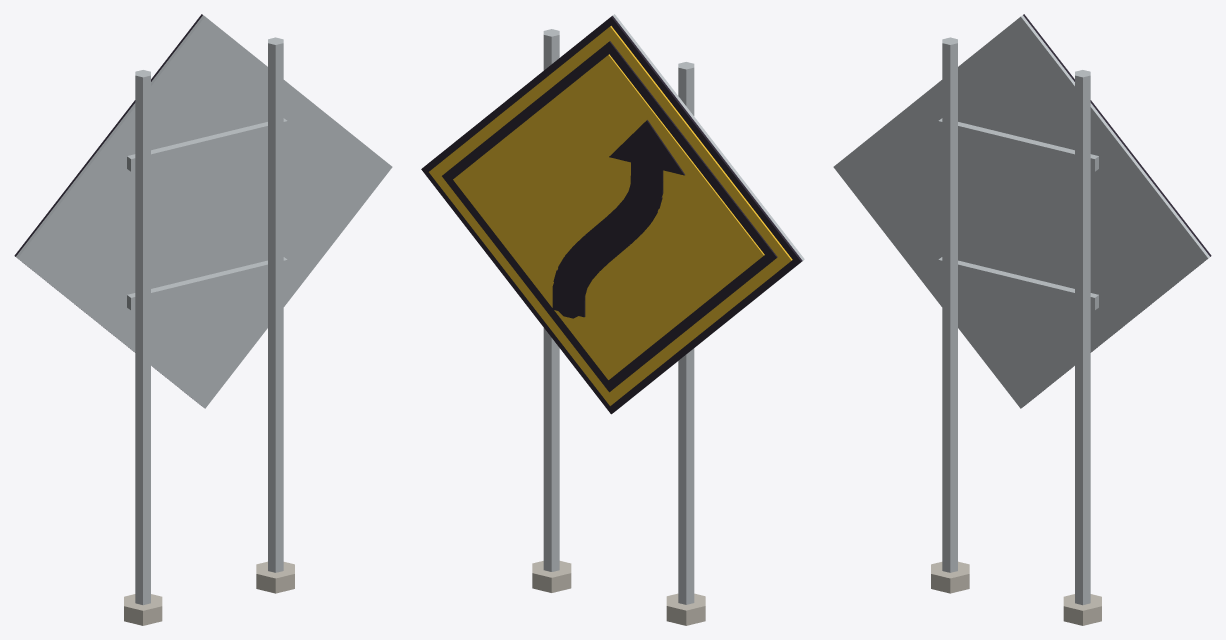
Rendered from corner_warn_series_right.glb.
3 views of the same model, side by side, from view 1: azimuth 30°, elevation 25°; view 2: azimuth 150°, elevation 25°; view 3: azimuth 330°, elevation 25° (orthographic).
Parts seen in each view (by area): view 1: corner_warn_series_right; view 2: corner_warn_series_right; view 3: corner_warn_series_right.
Boxes of the visible parts, x1,y1,x2,y2 form: corner_warn_series_right: [14, 14, 392, 625]; corner_warn_series_right: [421, 14, 804, 625]; corner_warn_series_right: [833, 14, 1211, 625].
Size of the model in its own units: 3.11 by 4.61 by 0.2996.
